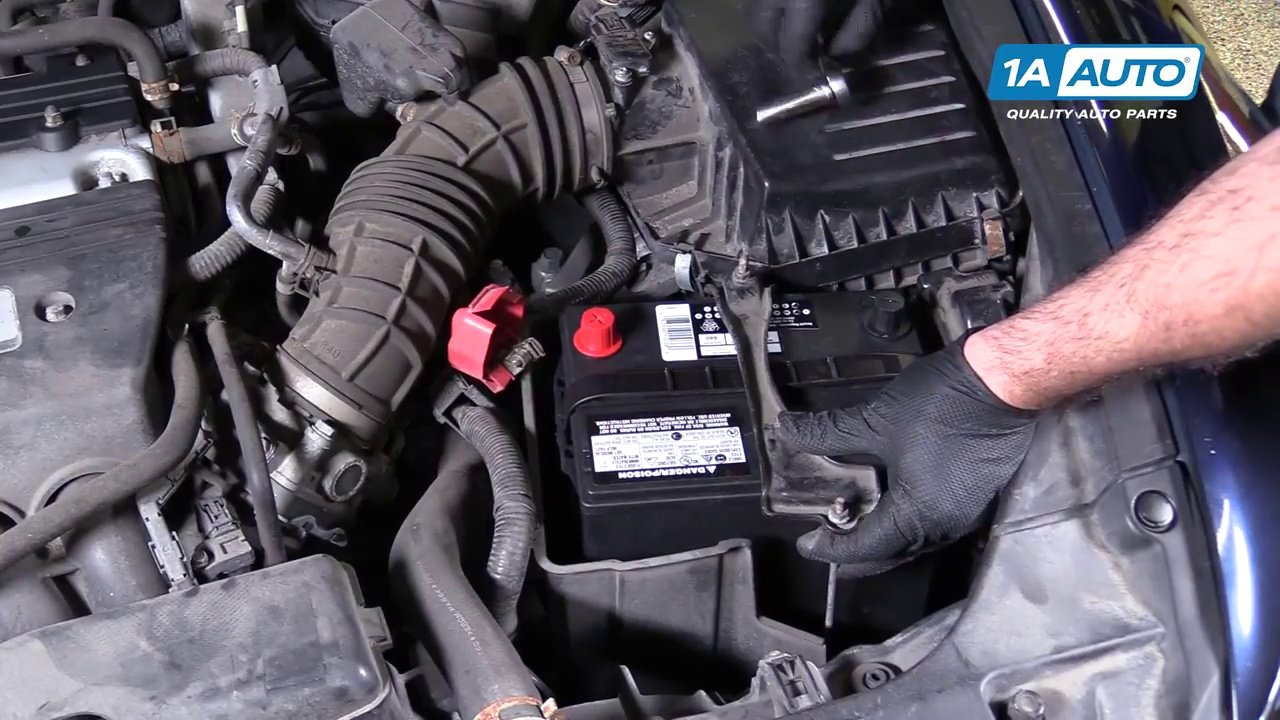battery: (548, 270, 940, 499)
pos_disconnected: (427, 291, 632, 378)
